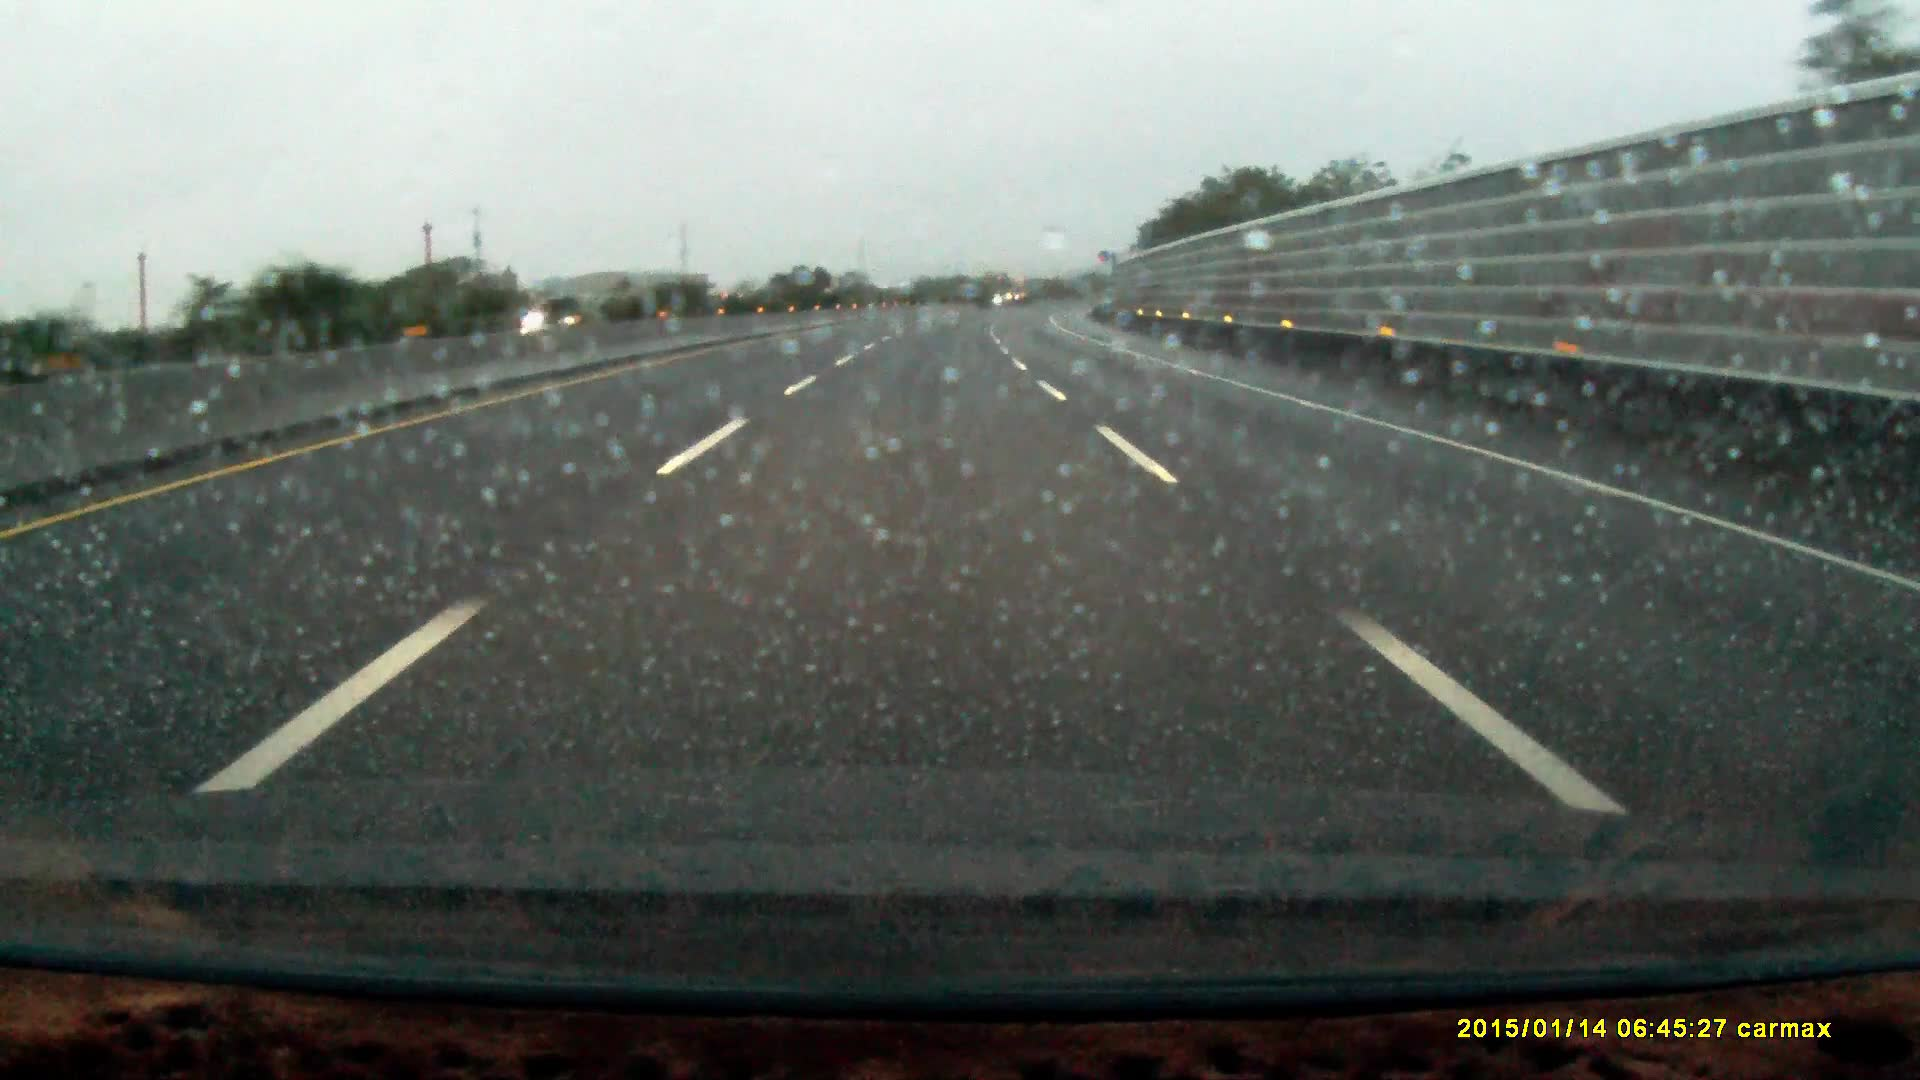vehicle: (496, 305, 574, 335)
